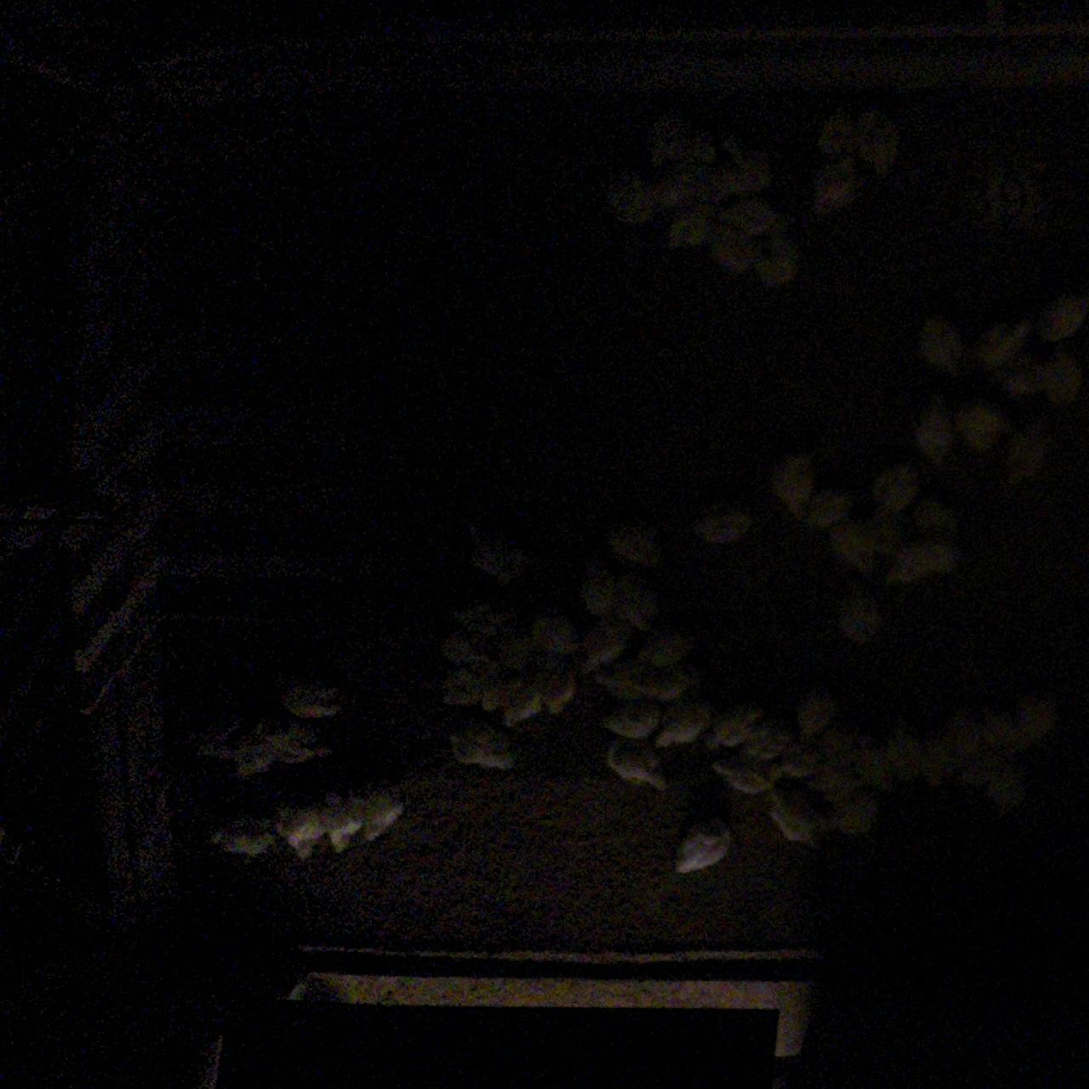chicken: (662, 807, 740, 879), (640, 101, 723, 168), (439, 717, 516, 777), (200, 803, 275, 863), (597, 152, 655, 228), (763, 440, 818, 517), (601, 510, 671, 570), (689, 490, 758, 550), (604, 732, 673, 792), (912, 306, 969, 378), (721, 133, 789, 193), (802, 152, 859, 222), (460, 529, 532, 584), (854, 103, 906, 179), (911, 392, 964, 466), (751, 224, 811, 289), (203, 722, 272, 778), (273, 795, 329, 864), (1029, 283, 1089, 345), (955, 396, 1012, 460), (661, 200, 721, 260), (277, 675, 352, 723), (315, 790, 367, 856), (649, 158, 722, 205), (572, 618, 631, 675), (1016, 682, 1067, 747), (593, 694, 662, 742), (610, 572, 664, 633), (1010, 415, 1055, 488), (885, 540, 961, 583), (358, 784, 408, 849), (981, 312, 1035, 372), (825, 515, 877, 577), (1035, 340, 1086, 403), (875, 458, 925, 521), (769, 790, 827, 844), (449, 589, 514, 637), (656, 694, 718, 744), (834, 583, 883, 645), (263, 720, 335, 761), (711, 217, 763, 273), (707, 698, 763, 750), (810, 98, 858, 157), (722, 189, 789, 231), (711, 753, 774, 797), (915, 496, 969, 547), (802, 481, 857, 531), (536, 656, 581, 716), (577, 554, 618, 619), (436, 662, 488, 712), (795, 679, 839, 738), (495, 668, 540, 725), (646, 656, 703, 701), (997, 755, 1037, 819), (589, 656, 646, 700), (633, 625, 689, 667), (857, 740, 899, 795), (475, 665, 521, 713), (892, 729, 932, 784), (1001, 353, 1044, 403), (531, 605, 580, 648), (780, 737, 825, 783), (867, 509, 911, 556), (946, 708, 985, 760), (489, 624, 533, 669), (922, 731, 958, 785), (978, 698, 1020, 744), (832, 794, 879, 835), (441, 625, 489, 665), (743, 718, 792, 756), (964, 741, 1005, 786), (821, 721, 874, 755), (814, 761, 859, 798)
